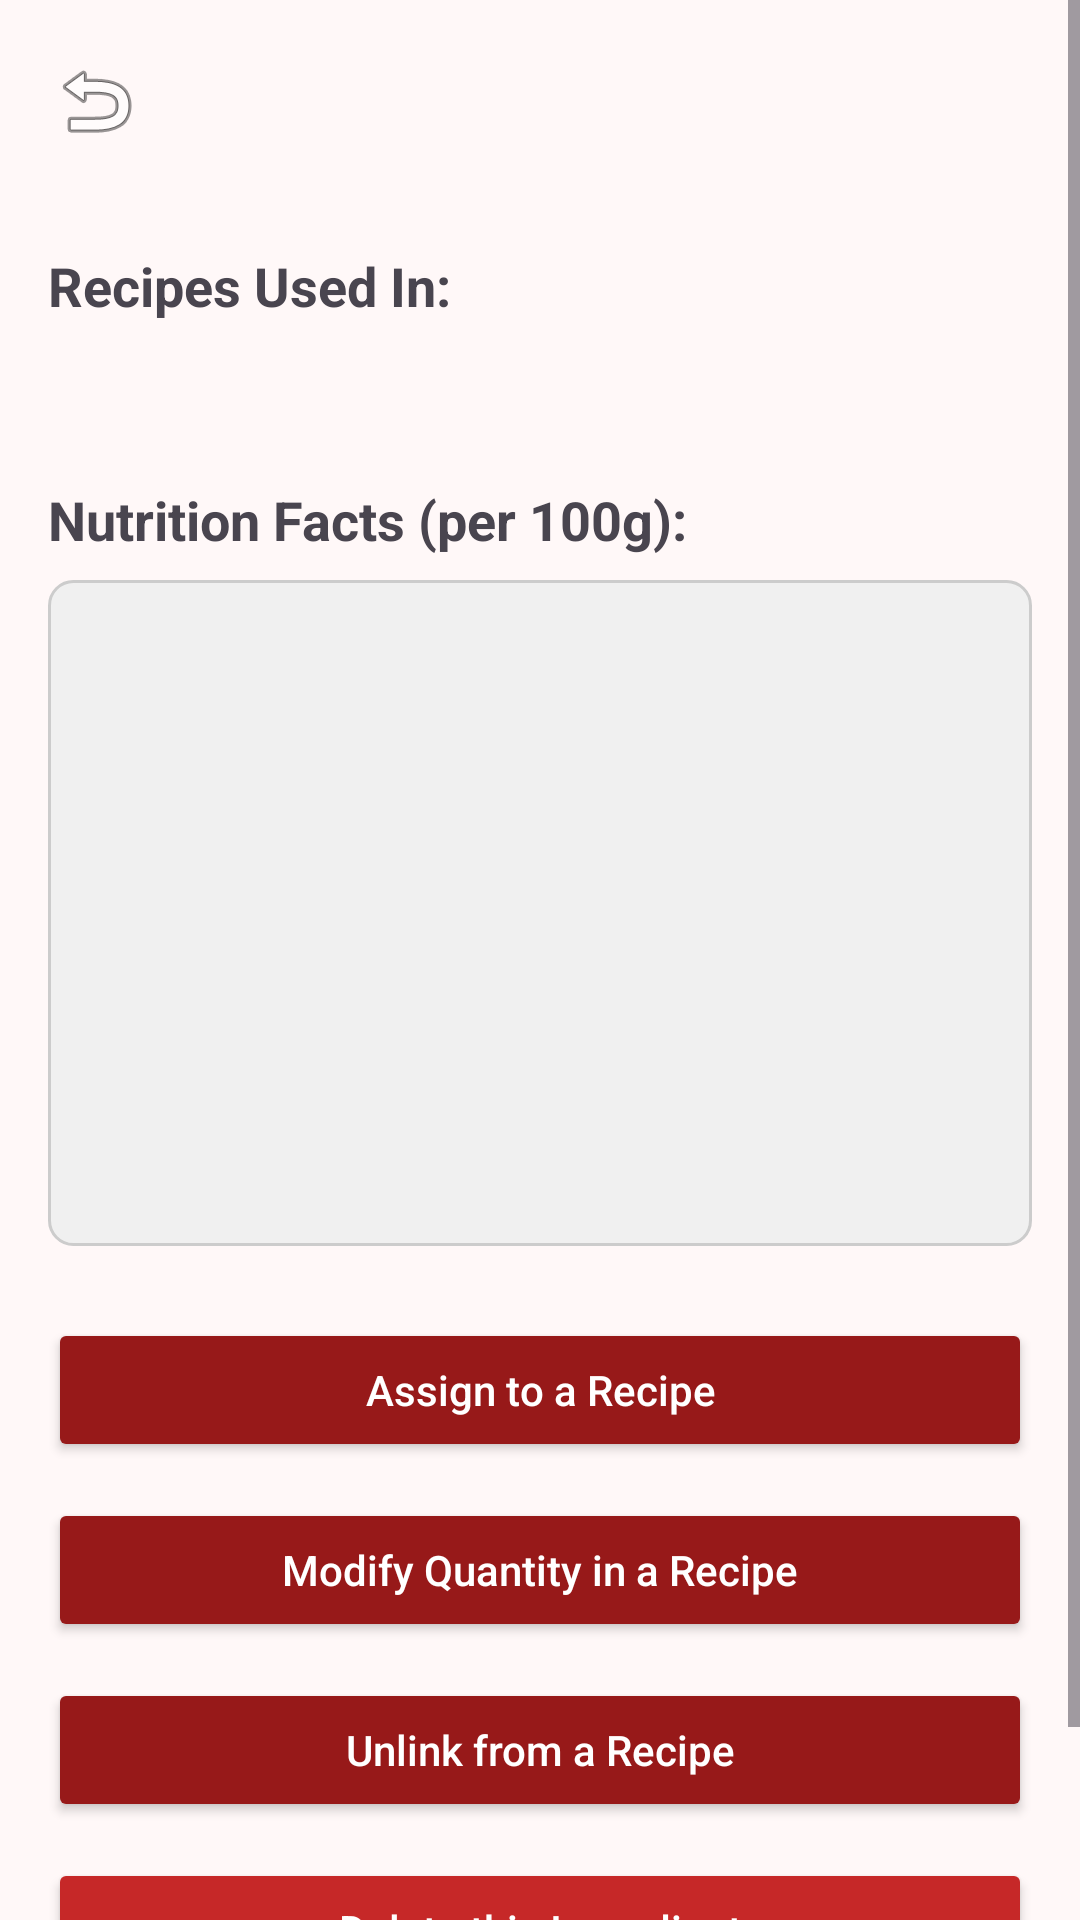

Icon click points for this 1080 x 1920 phone screenshot, format point (x, y):
Back: point (97, 101)
